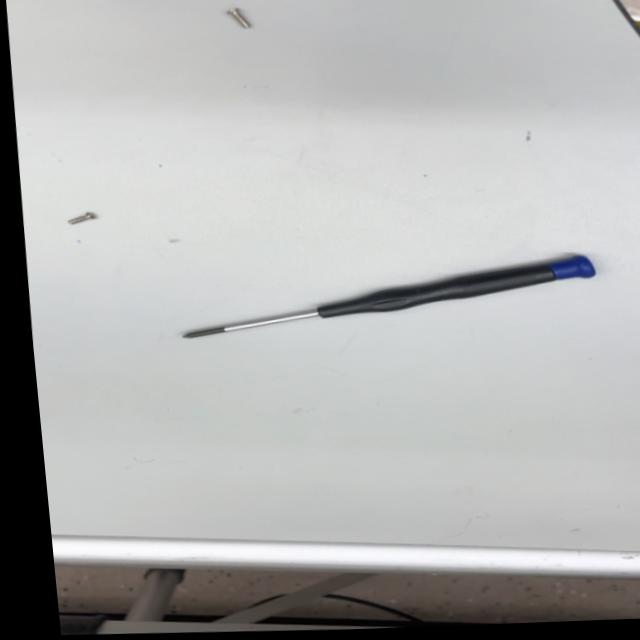screw: (55, 205, 108, 233), (221, 6, 266, 36)
screw_driver: (169, 246, 628, 352)
